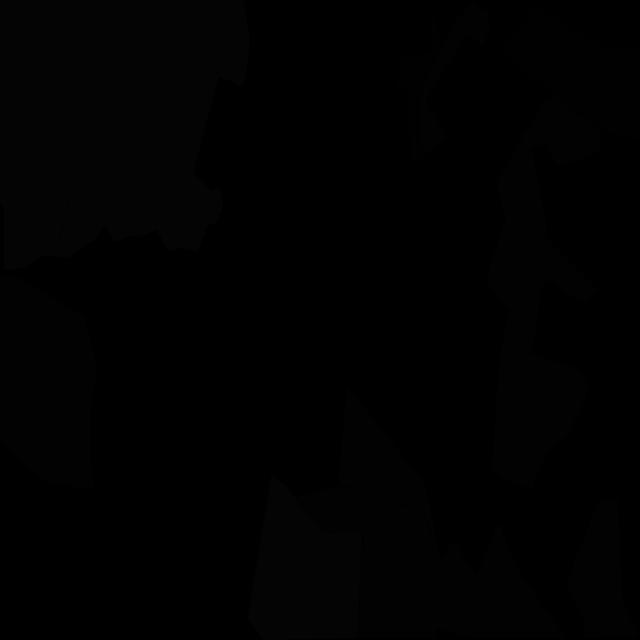cardboard: (338, 387, 640, 638), (486, 197, 598, 490), (296, 486, 437, 638), (0, 276, 98, 490), (496, 95, 600, 235), (420, 0, 490, 156)
rigid_plastic: (497, 5, 639, 142), (396, 9, 442, 169)
soft_plastic: (0, 0, 249, 252), (248, 476, 362, 640), (4, 181, 92, 270)
